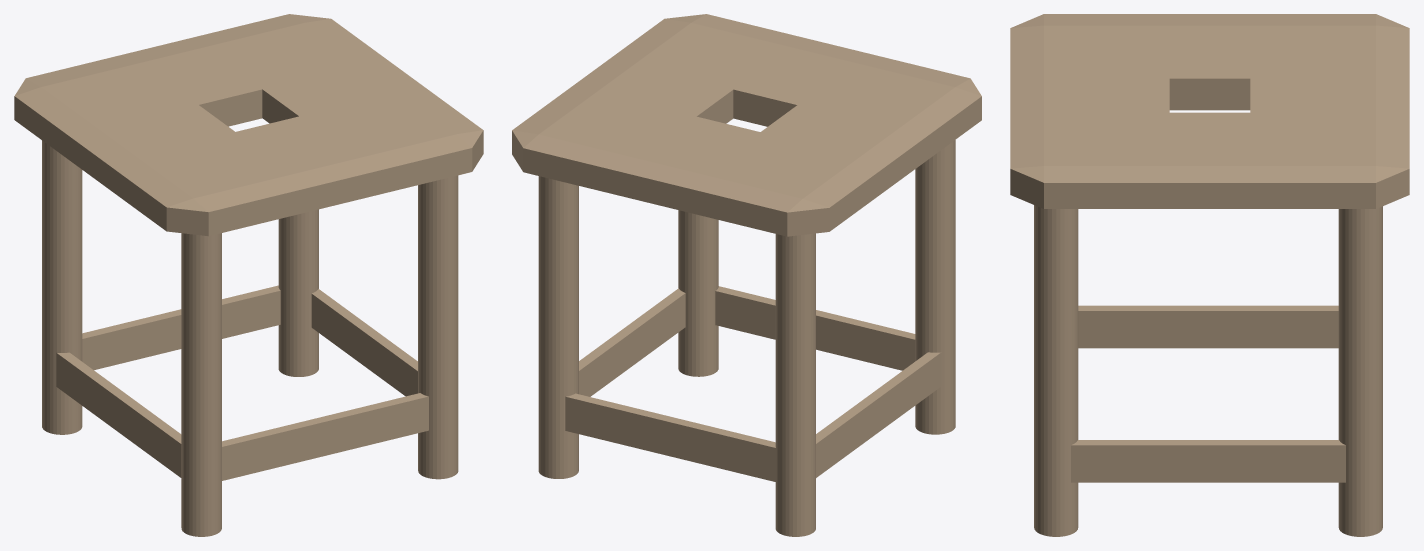
Rendered from Stool.fbx.
The picture shows the model from 3 angles, left to right: view 1: azimuth 30°, elevation 25°; view 2: azimuth 150°, elevation 25°; view 3: azimuth 270°, elevation 25°; orthographic projection. The views are drawn at different scales.
Visible parts, largest first — view 1: Cube.001; view 2: Cube.001; view 3: Cube.001.
Part boxes in pixels (box(x1,y1,x2,y2)): Cube.001: box(14, 14, 483, 536); Cube.001: box(512, 14, 981, 536); Cube.001: box(1010, 14, 1409, 536).
Bounding box in the file's own units: 200 × 204 × 200.
